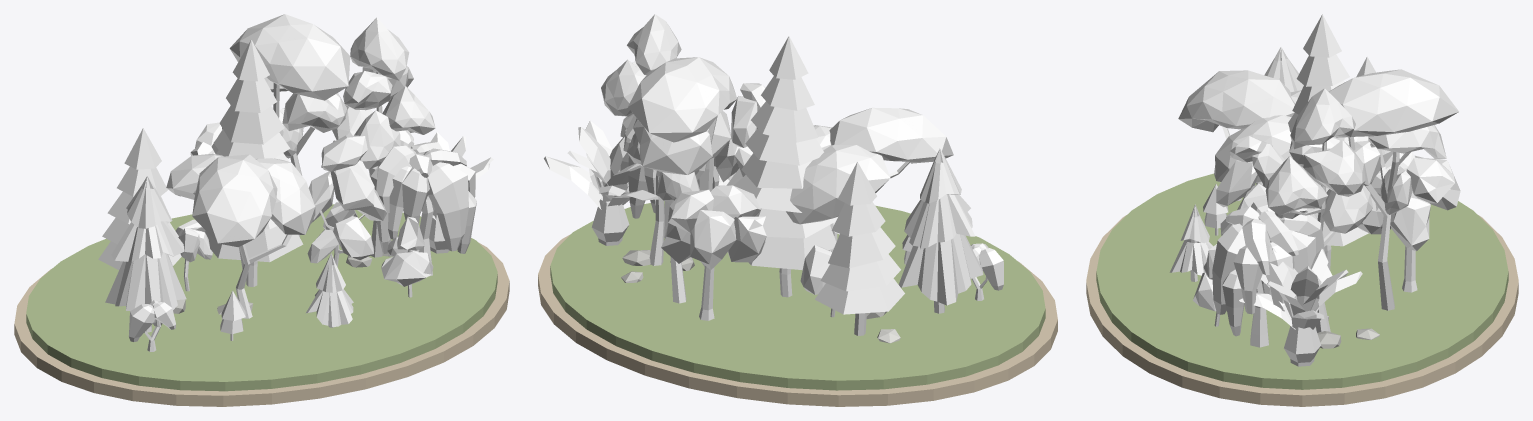
Rendered from forest_level.glb.
3 renders of one model, left to right at view 1: azimuth 30°, elevation 25°; view 2: azimuth 150°, elevation 25°; view 3: azimuth 270°, elevation 25°, orthographic. The views are drawn at different scales.
Parts seen in each view (by area): view 1: Ground, Tree Type3 03 Model, GroundEdge, Tree Type3 04 Model, Tree Type6 03 Model, Tree Type4 04 Model, Tree Type1 05 Model, Tree Type5 03 Model, Tree Type2 03 Model, Tree Type1 04 Model, Tree Type4 01 Model, Tree Type2 01 Model (+5 smaller); view 2: Ground, Tree Type1 05 Model, Tree Type3 04 Model, GroundEdge, Tree Type3 03 Model, Tree Type1 04 Model, Tree Type2 03 Model, Tree Type0 05 Model, Tree Type7 01 Model, Tree Type4 04 Model, Tree Type5 03 Model, Tree Type6 03 Model (+2 smaller); view 3: Ground, Tree Type3 04 Model, GroundEdge, Tree Type4 04 Model, Tree Type6 03 Model, Tree Type3 03 Model, Tree Type0 05 Model, Tree Type7 01 Model, Tree Type1 05 Model, Tree Type5 03 Model, Tree Type2 01 Model, Tree Type4 01 Model (+2 smaller).
Boxes of the visible parts, x1,y1,x2,y2 form: Ground: (26, 204, 497, 391); Tree Type3 03 Model: (166, 153, 315, 318); GroundEdge: (14, 242, 509, 406); Tree Type3 04 Model: (229, 14, 350, 236); Tree Type6 03 Model: (368, 130, 476, 276); Tree Type4 04 Model: (332, 17, 435, 257); Tree Type1 05 Model: (205, 39, 303, 286); Tree Type5 03 Model: (307, 135, 386, 266); Tree Type2 03 Model: (105, 176, 186, 332); Tree Type1 04 Model: (98, 128, 181, 269); Tree Type4 01 Model: (381, 216, 433, 297); Tree Type2 01 Model: (306, 253, 353, 327); Ground: (550, 201, 1045, 390); Tree Type1 05 Model: (734, 36, 837, 297); Tree Type3 04 Model: (628, 57, 737, 303); GroundEdge: (538, 234, 1057, 406); Tree Type3 03 Model: (786, 107, 953, 224); Tree Type1 04 Model: (815, 162, 904, 335); Tree Type2 03 Model: (898, 149, 983, 313); Tree Type0 05 Model: (661, 185, 766, 320); Tree Type7 01 Model: (544, 121, 658, 245); Tree Type4 04 Model: (601, 14, 681, 265); Tree Type5 03 Model: (715, 83, 765, 185); Tree Type6 03 Model: (619, 114, 719, 237); Ground: (1096, 173, 1508, 389); Tree Type3 04 Model: (1329, 69, 1458, 310); GroundEdge: (1086, 214, 1518, 406); Tree Type4 04 Model: (1265, 88, 1372, 332); Tree Type6 03 Model: (1212, 198, 1324, 347); Tree Type3 03 Model: (1178, 70, 1301, 197); Tree Type0 05 Model: (1357, 151, 1460, 292); Tree Type7 01 Model: (1239, 248, 1362, 366); Tree Type1 05 Model: (1288, 14, 1368, 270); Tree Type5 03 Model: (1216, 136, 1284, 209); Tree Type2 01 Model: (1169, 204, 1213, 281); Tree Type4 01 Model: (1193, 244, 1220, 326).
Bounding box in the file's own units: 12.89 × 7.15 × 10.08.
